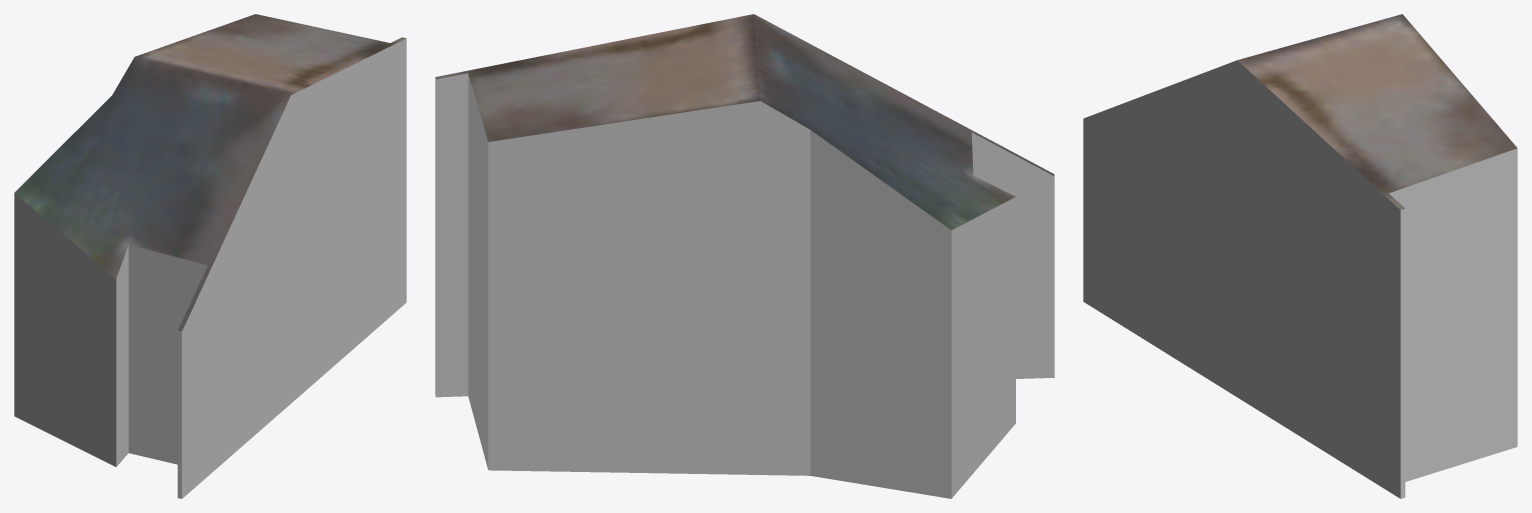
The model's file is DEBW_0010007TvlY.gltf.
The picture shows the model from 3 angles, left to right: view 1: azimuth 30°, elevation 25°; view 2: azimuth 150°, elevation 25°; view 3: azimuth 270°, elevation 25°; orthographic projection. The views are drawn at different scales.
Parts seen in each view (by area): view 1: Z_UP; view 2: Z_UP; view 3: Z_UP.
Boxes of the visible parts, left/top/right/bottom form: Z_UP: left=14, top=14, right=406, bottom=498; Z_UP: left=435, top=14, right=1054, bottom=498; Z_UP: left=1083, top=14, right=1517, bottom=498.
Size of the model in its own units: 14.27 by 10.33 by 11.95.
2 materials, 1 textured.
